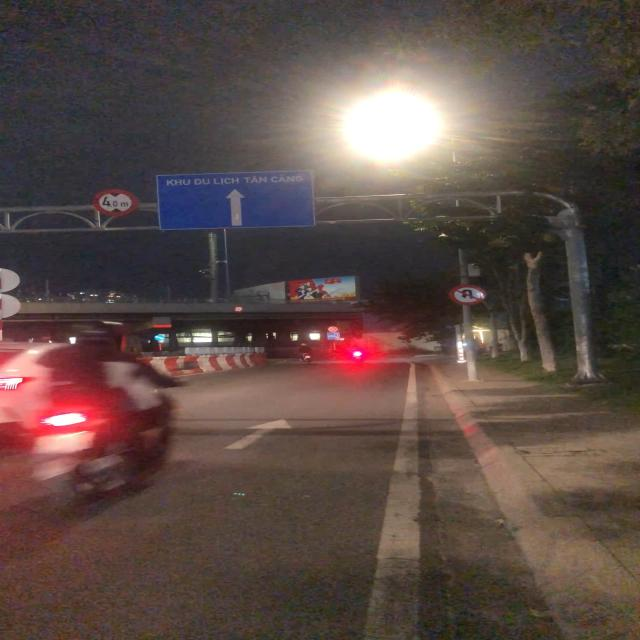Bien bao cam quay dau xe: (448, 283, 491, 308)
Bien bao han che chieu cao: (93, 187, 140, 218)
